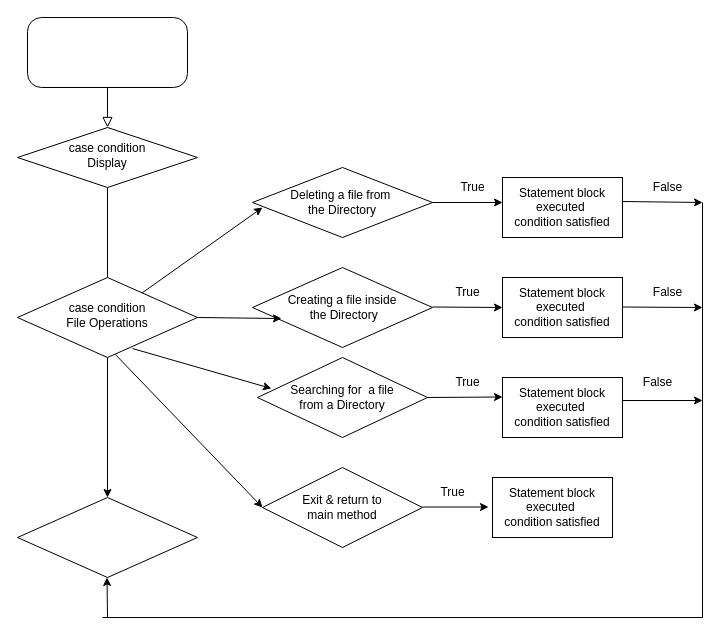
Image size: 728x643. Some labels were removed from this diagram. The shapes that lost their labels are listed below. From the top down, each one's box as (x1, y1, x2, y2) in pixels, then its label:
(26, 16, 188, 88): File Handling Operations using switch (Conditional Expression)
(16, 496, 198, 578): case condition exit from Application
